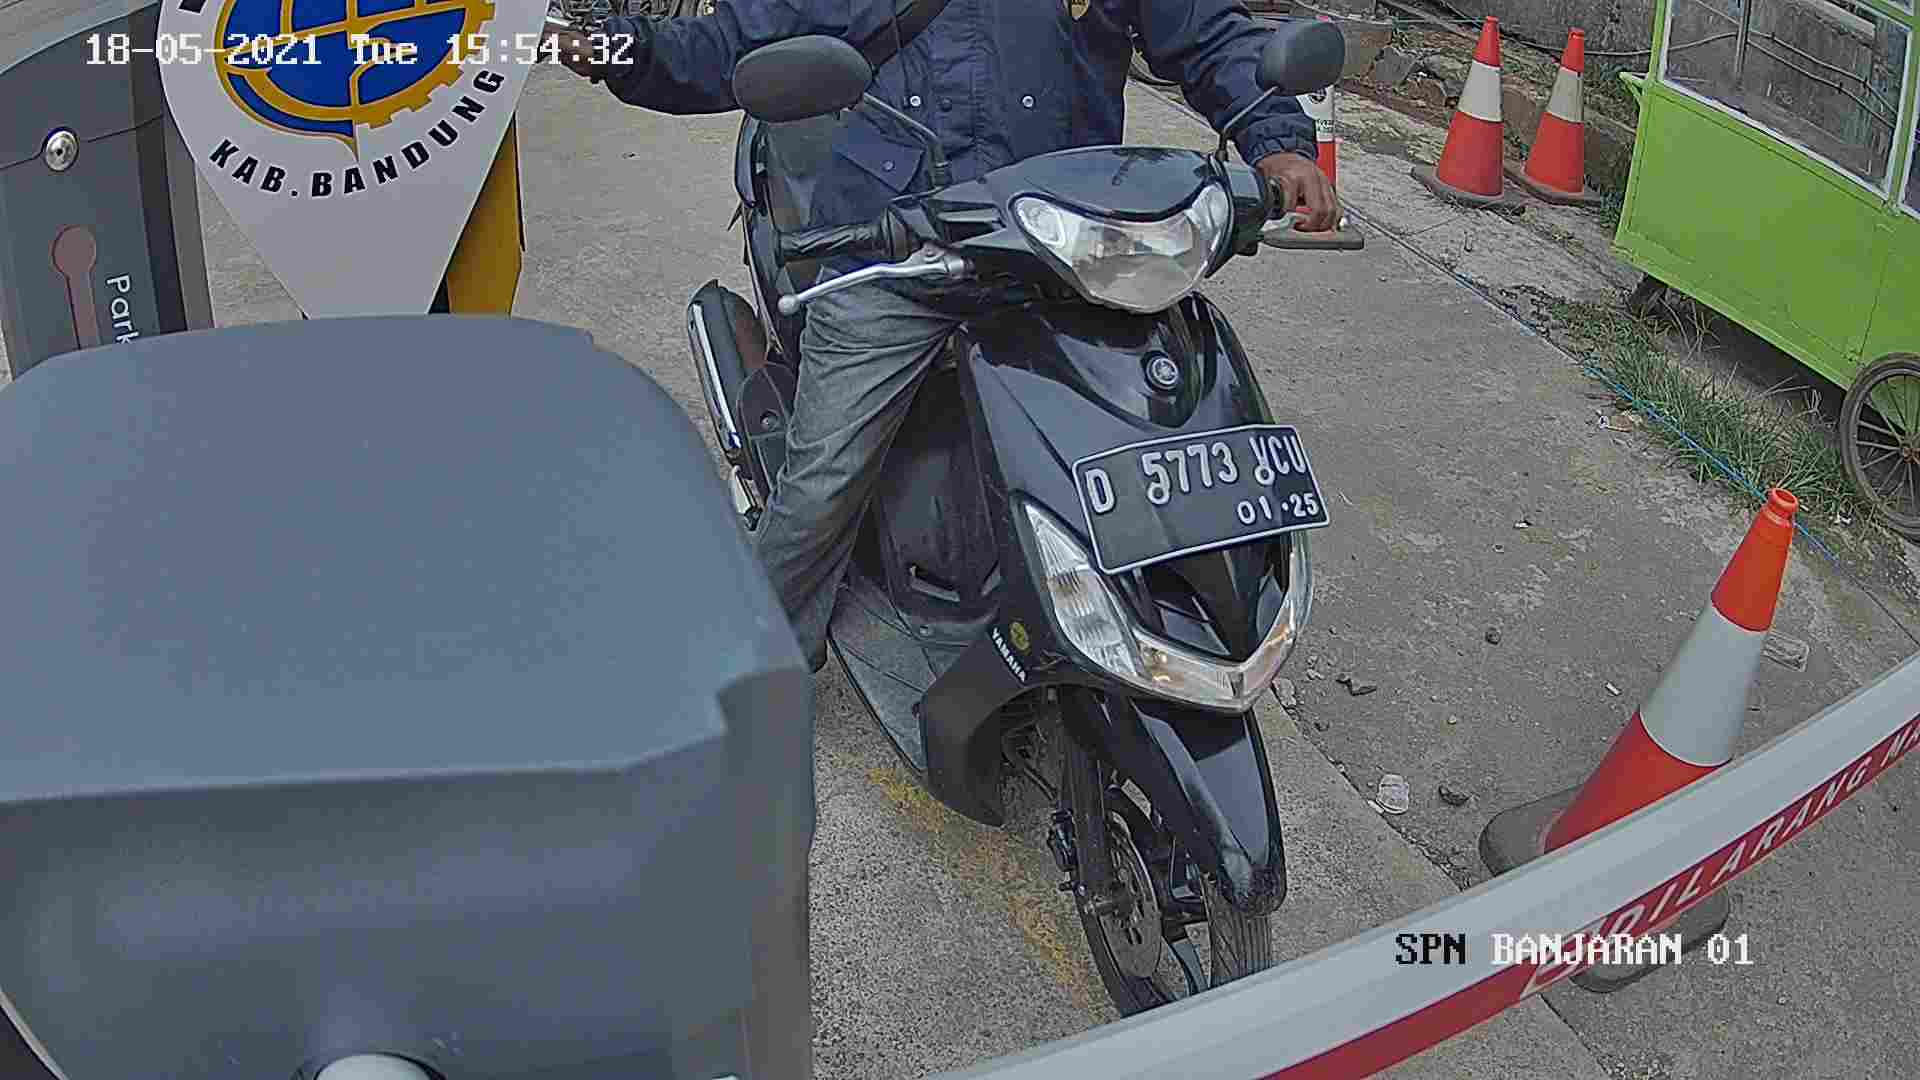motor: (752, 190, 1357, 998)
